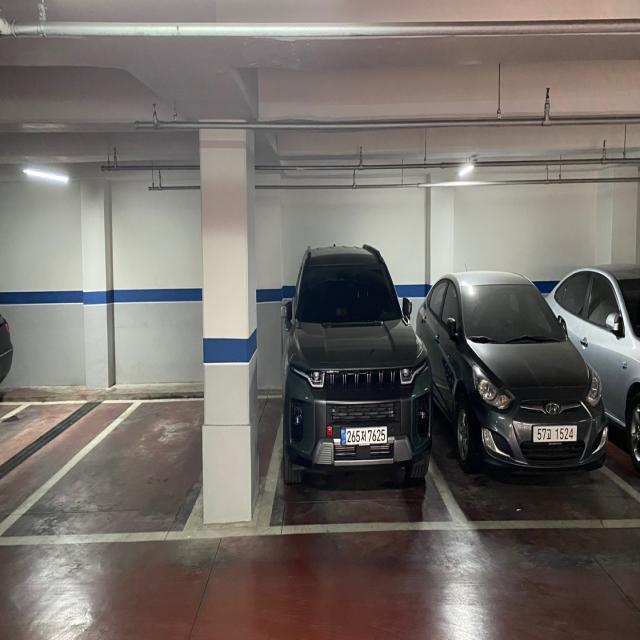empty: (0, 396, 204, 545)
occupied: (437, 267, 608, 482), (280, 246, 434, 482)
